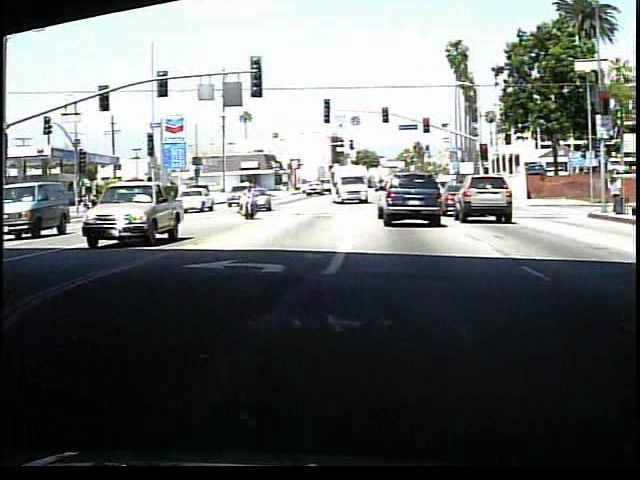person: (239, 184, 258, 221)
